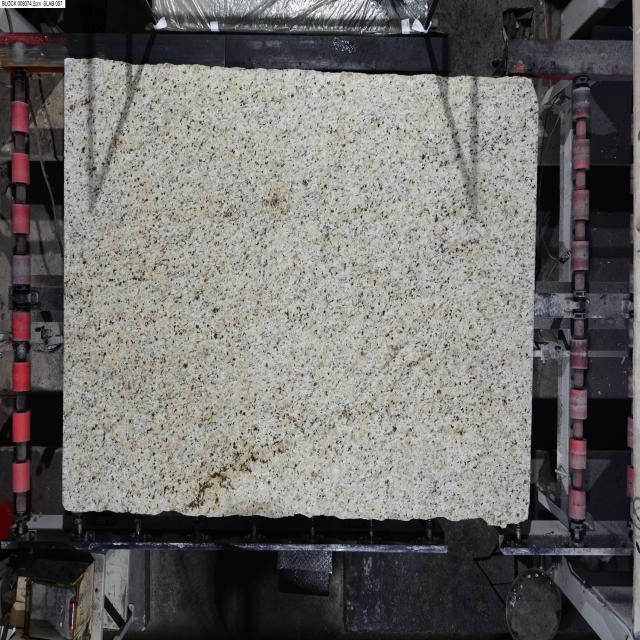chapa: (62, 58, 538, 525)
